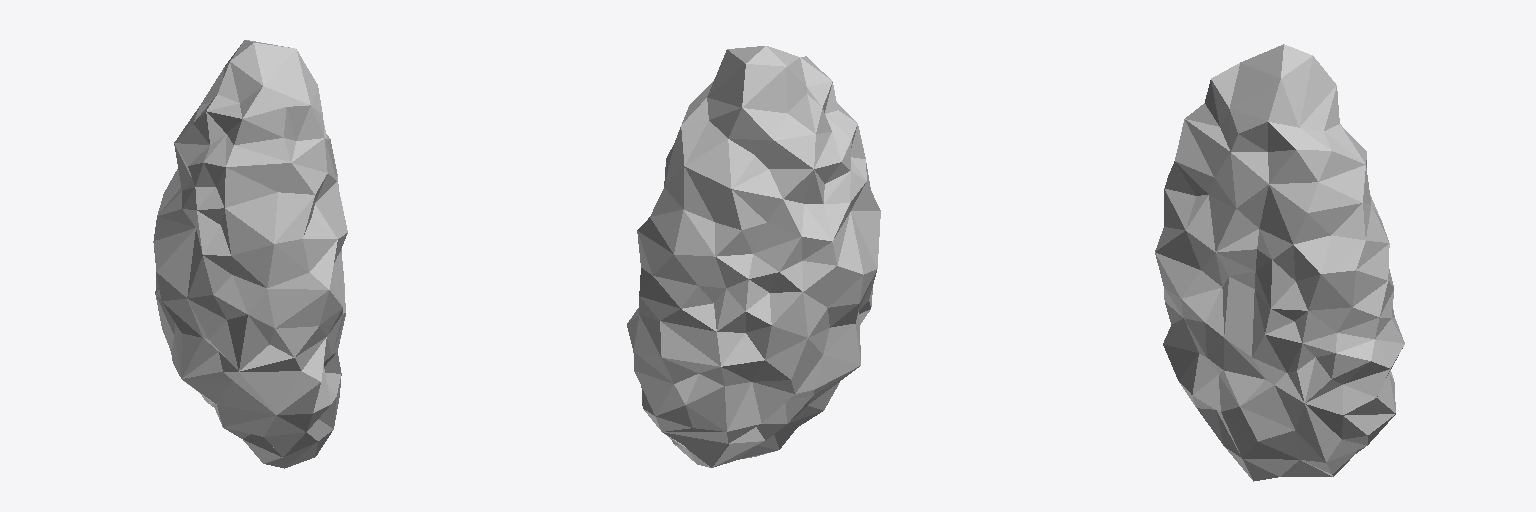
Rendered from rock_002.obj.
3 renders of one model, left to right at view 1: azimuth 30°, elevation 25°; view 2: azimuth 150°, elevation 25°; view 3: azimuth 270°, elevation 25°, orthographic.
Parts seen in each view (by area): view 1: rock.002_rock.014; view 2: rock.002_rock.014; view 3: rock.002_rock.014.
Boxes of the visible parts, x1,y1,x2,y2 form: rock.002_rock.014: [153, 40, 347, 468]; rock.002_rock.014: [627, 46, 880, 467]; rock.002_rock.014: [1155, 44, 1404, 481].
Size of the model in its own units: 5.12 by 10.61 by 5.68.